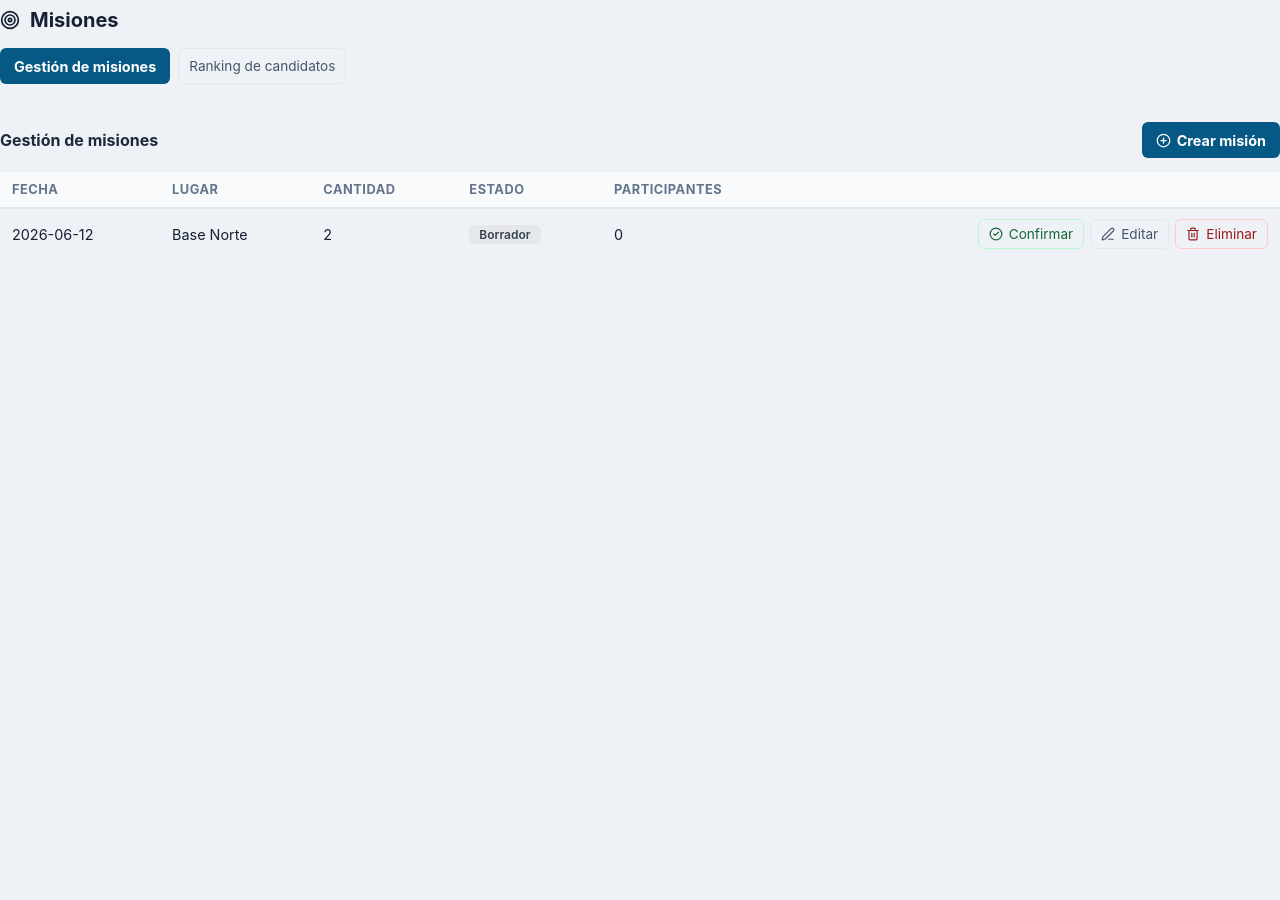
MissionView › muestra solo elegibles disponibles en confirmación
Click the button "Confirmar".
click(1031, 234)  # box [978,219,1084,249]
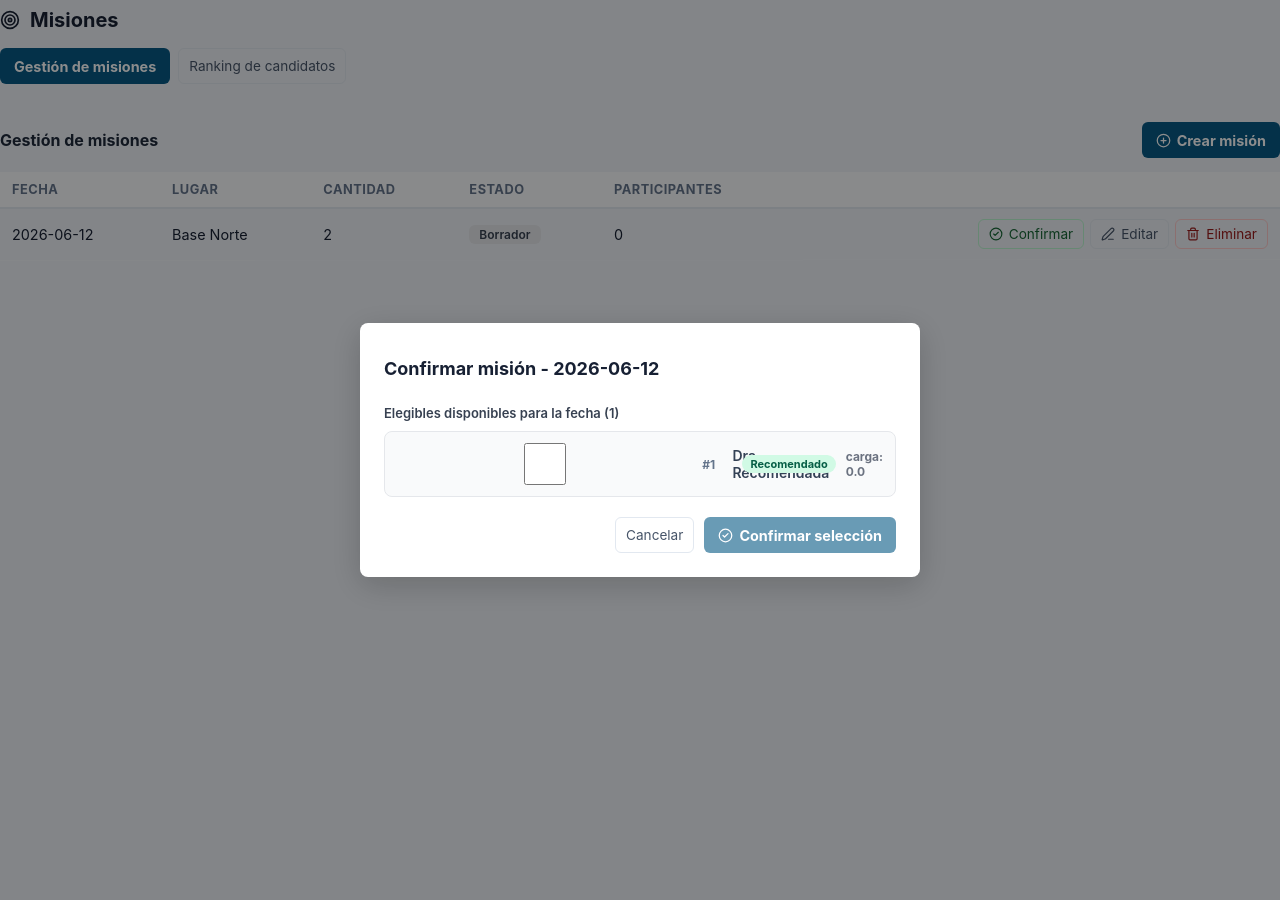
Expected: the text "Elegibles disponibles para la fecha (1)" is shown, [384,405,619,421]
